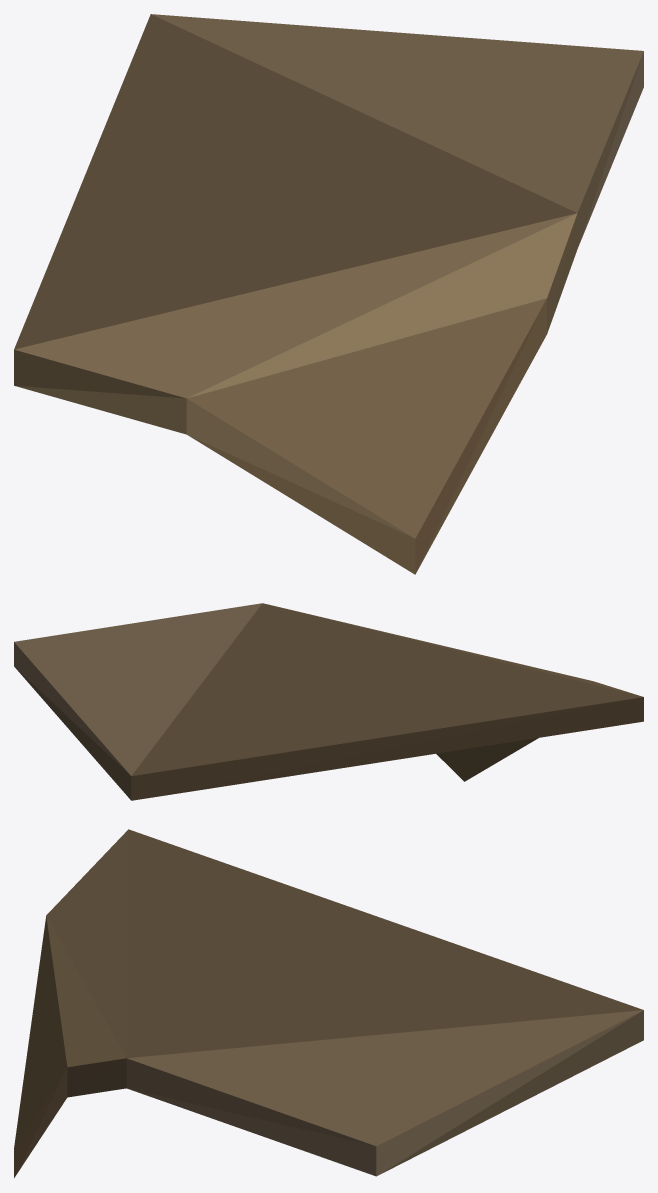
The model's file is prop_literature_paper_2.fbx.
The picture shows the model from 3 angles, top to bottom: view 1: azimuth 30°, elevation 25°; view 2: azimuth 150°, elevation 25°; view 3: azimuth 270°, elevation 25°; orthographic projection. The views are drawn at different scales.
Parts seen in each view (by area): view 1: prop_literature_paper_2; view 2: prop_literature_paper_2; view 3: prop_literature_paper_2.
Part boxes in pixels (left/top/right/bottom): prop_literature_paper_2: left=14, top=14, right=643, bottom=574; prop_literature_paper_2: left=14, top=603, right=643, bottom=800; prop_literature_paper_2: left=14, top=829, right=643, bottom=1177.
Bounding box in the file's own units: 0.5241 × 0.1654 × 0.4401.
